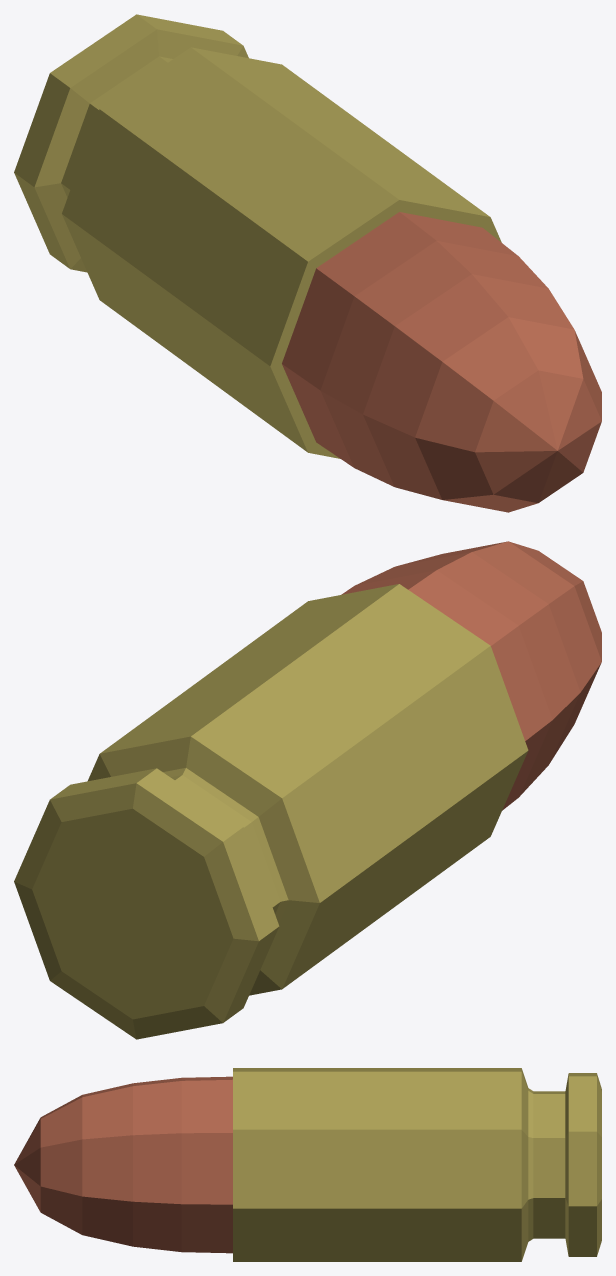
The model's file is bullet.gltf.
3 renders of one model, top to bottom at view 1: azimuth 30°, elevation 25°; view 2: azimuth 150°, elevation 25°; view 3: azimuth 270°, elevation 25°, orthographic. The views are drawn at different scales.
Visible parts, largest first — view 1: node-0; view 2: node-0; view 3: node-0.
Boxes of the visible parts, bbox=[...] form: node-0: bbox=[14, 14, 601, 512]; node-0: bbox=[14, 541, 601, 1039]; node-0: bbox=[14, 1068, 601, 1261].
Size of the model in its own units: 2 by 2 by 5.7.
